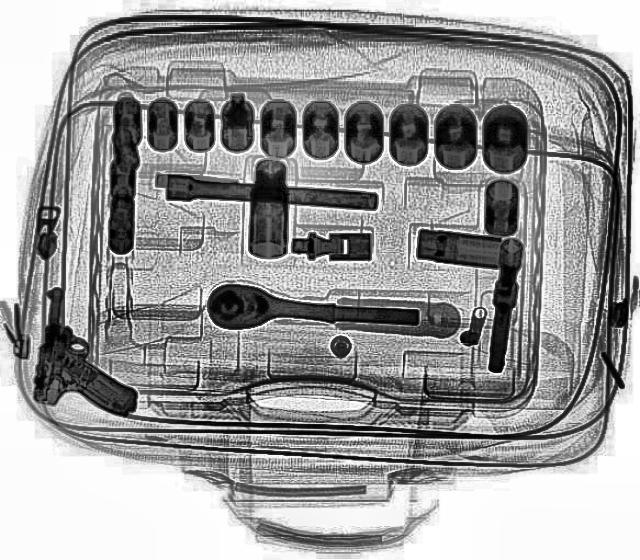Gun: (28, 285, 148, 415)
